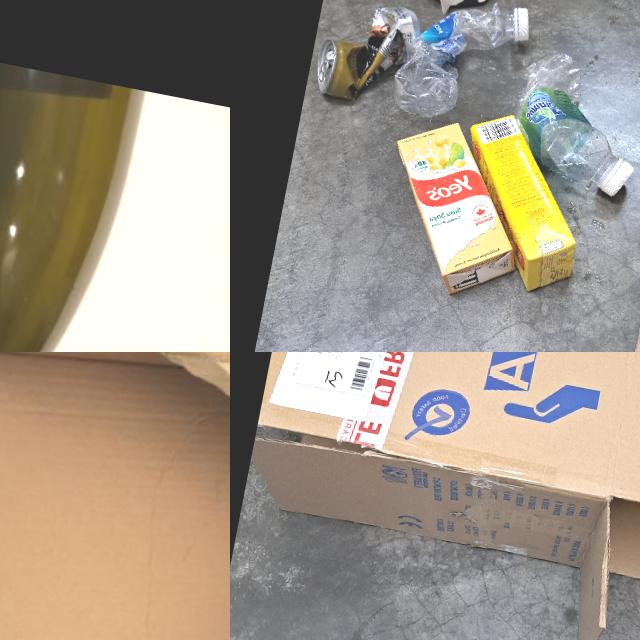aba de lata: (316, 48, 334, 81)
caixinha: (370, 112, 536, 305), (444, 106, 600, 300)
garrafa de vidro: (0, 35, 149, 352)
garrafa plástica: (507, 47, 640, 198), (388, 0, 532, 134)
lata: (311, 0, 422, 112)
papelão: (230, 352, 640, 640), (0, 352, 230, 640)
tampa plástica: (594, 154, 632, 201), (506, 6, 534, 42)
